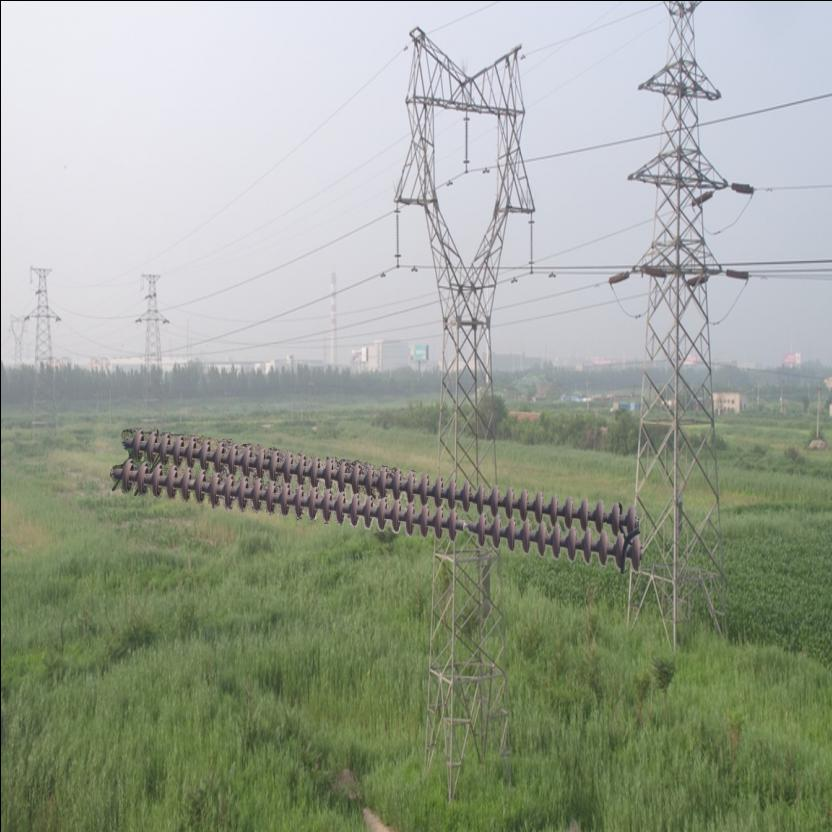defect: (442, 503, 492, 547)
